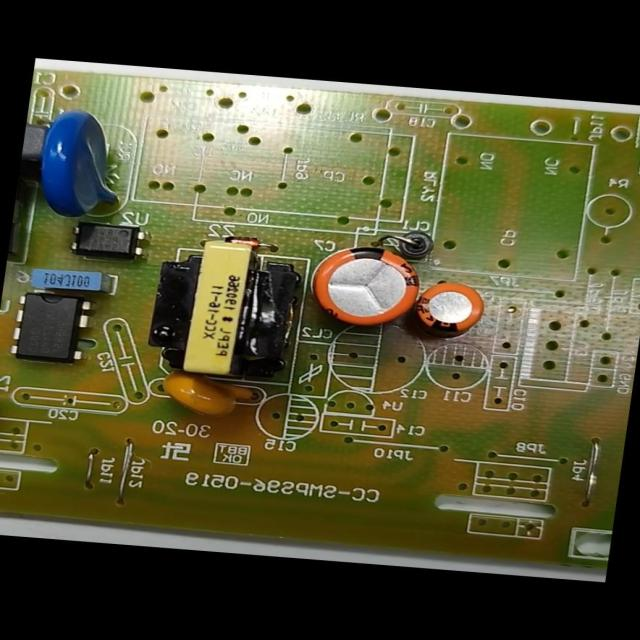Cap1: (300, 238, 430, 336)
Cap2: (408, 276, 491, 341)
MOSFET: (4, 288, 94, 368)
Mov: (29, 105, 137, 223)
Transformer: (138, 234, 312, 388)
